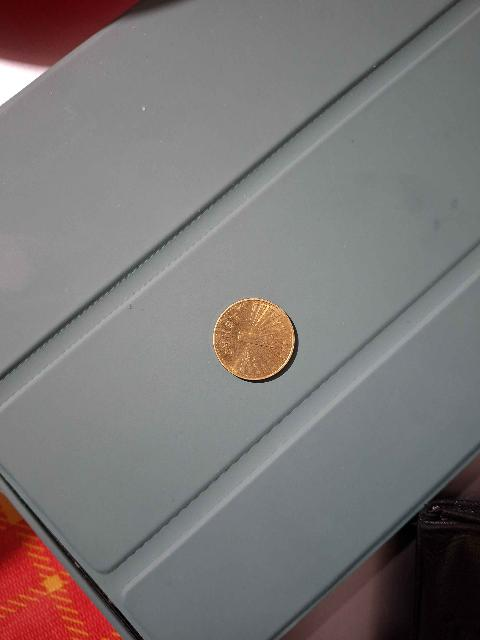1_coin: (214, 299, 294, 380)
